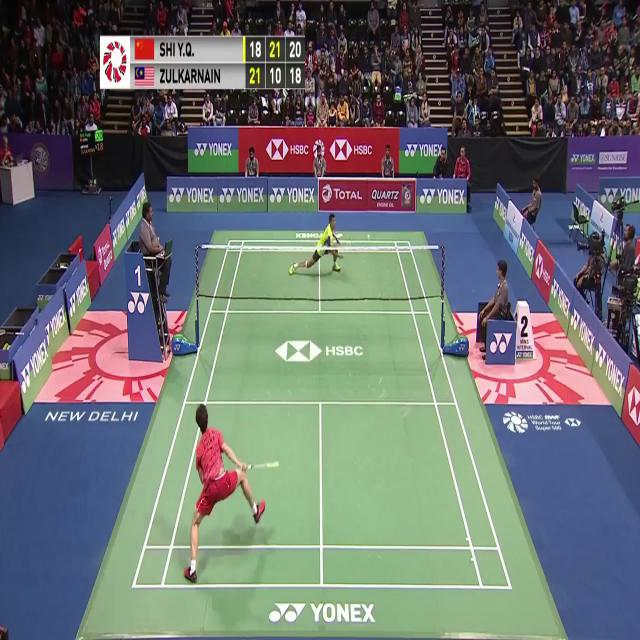Shuttlecock: (366, 232, 372, 243)
